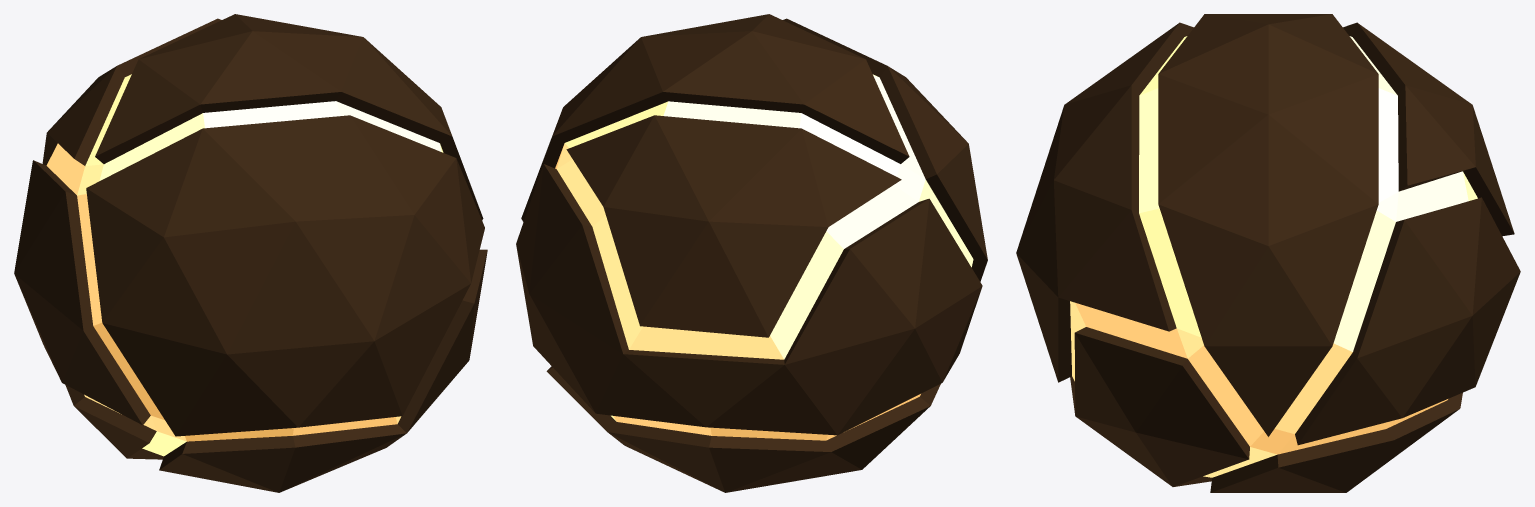
The model's file is magma_ball.glb.
3 renders of one model, left to right at view 1: azimuth 30°, elevation 25°; view 2: azimuth 150°, elevation 25°; view 3: azimuth 270°, elevation 25°, orthographic. The views are drawn at different scales.
Parts seen in each view (by area): view 1: Magmaball; view 2: Magmaball; view 3: Magmaball.
Boxes of the visible parts, x1,y1,x2,y2 form: Magmaball: (14,14,487,492); Magmaball: (516,14,987,492); Magmaball: (1016,14,1520,492).
Size of the model in its own units: 1.9 by 1.98 by 2.
